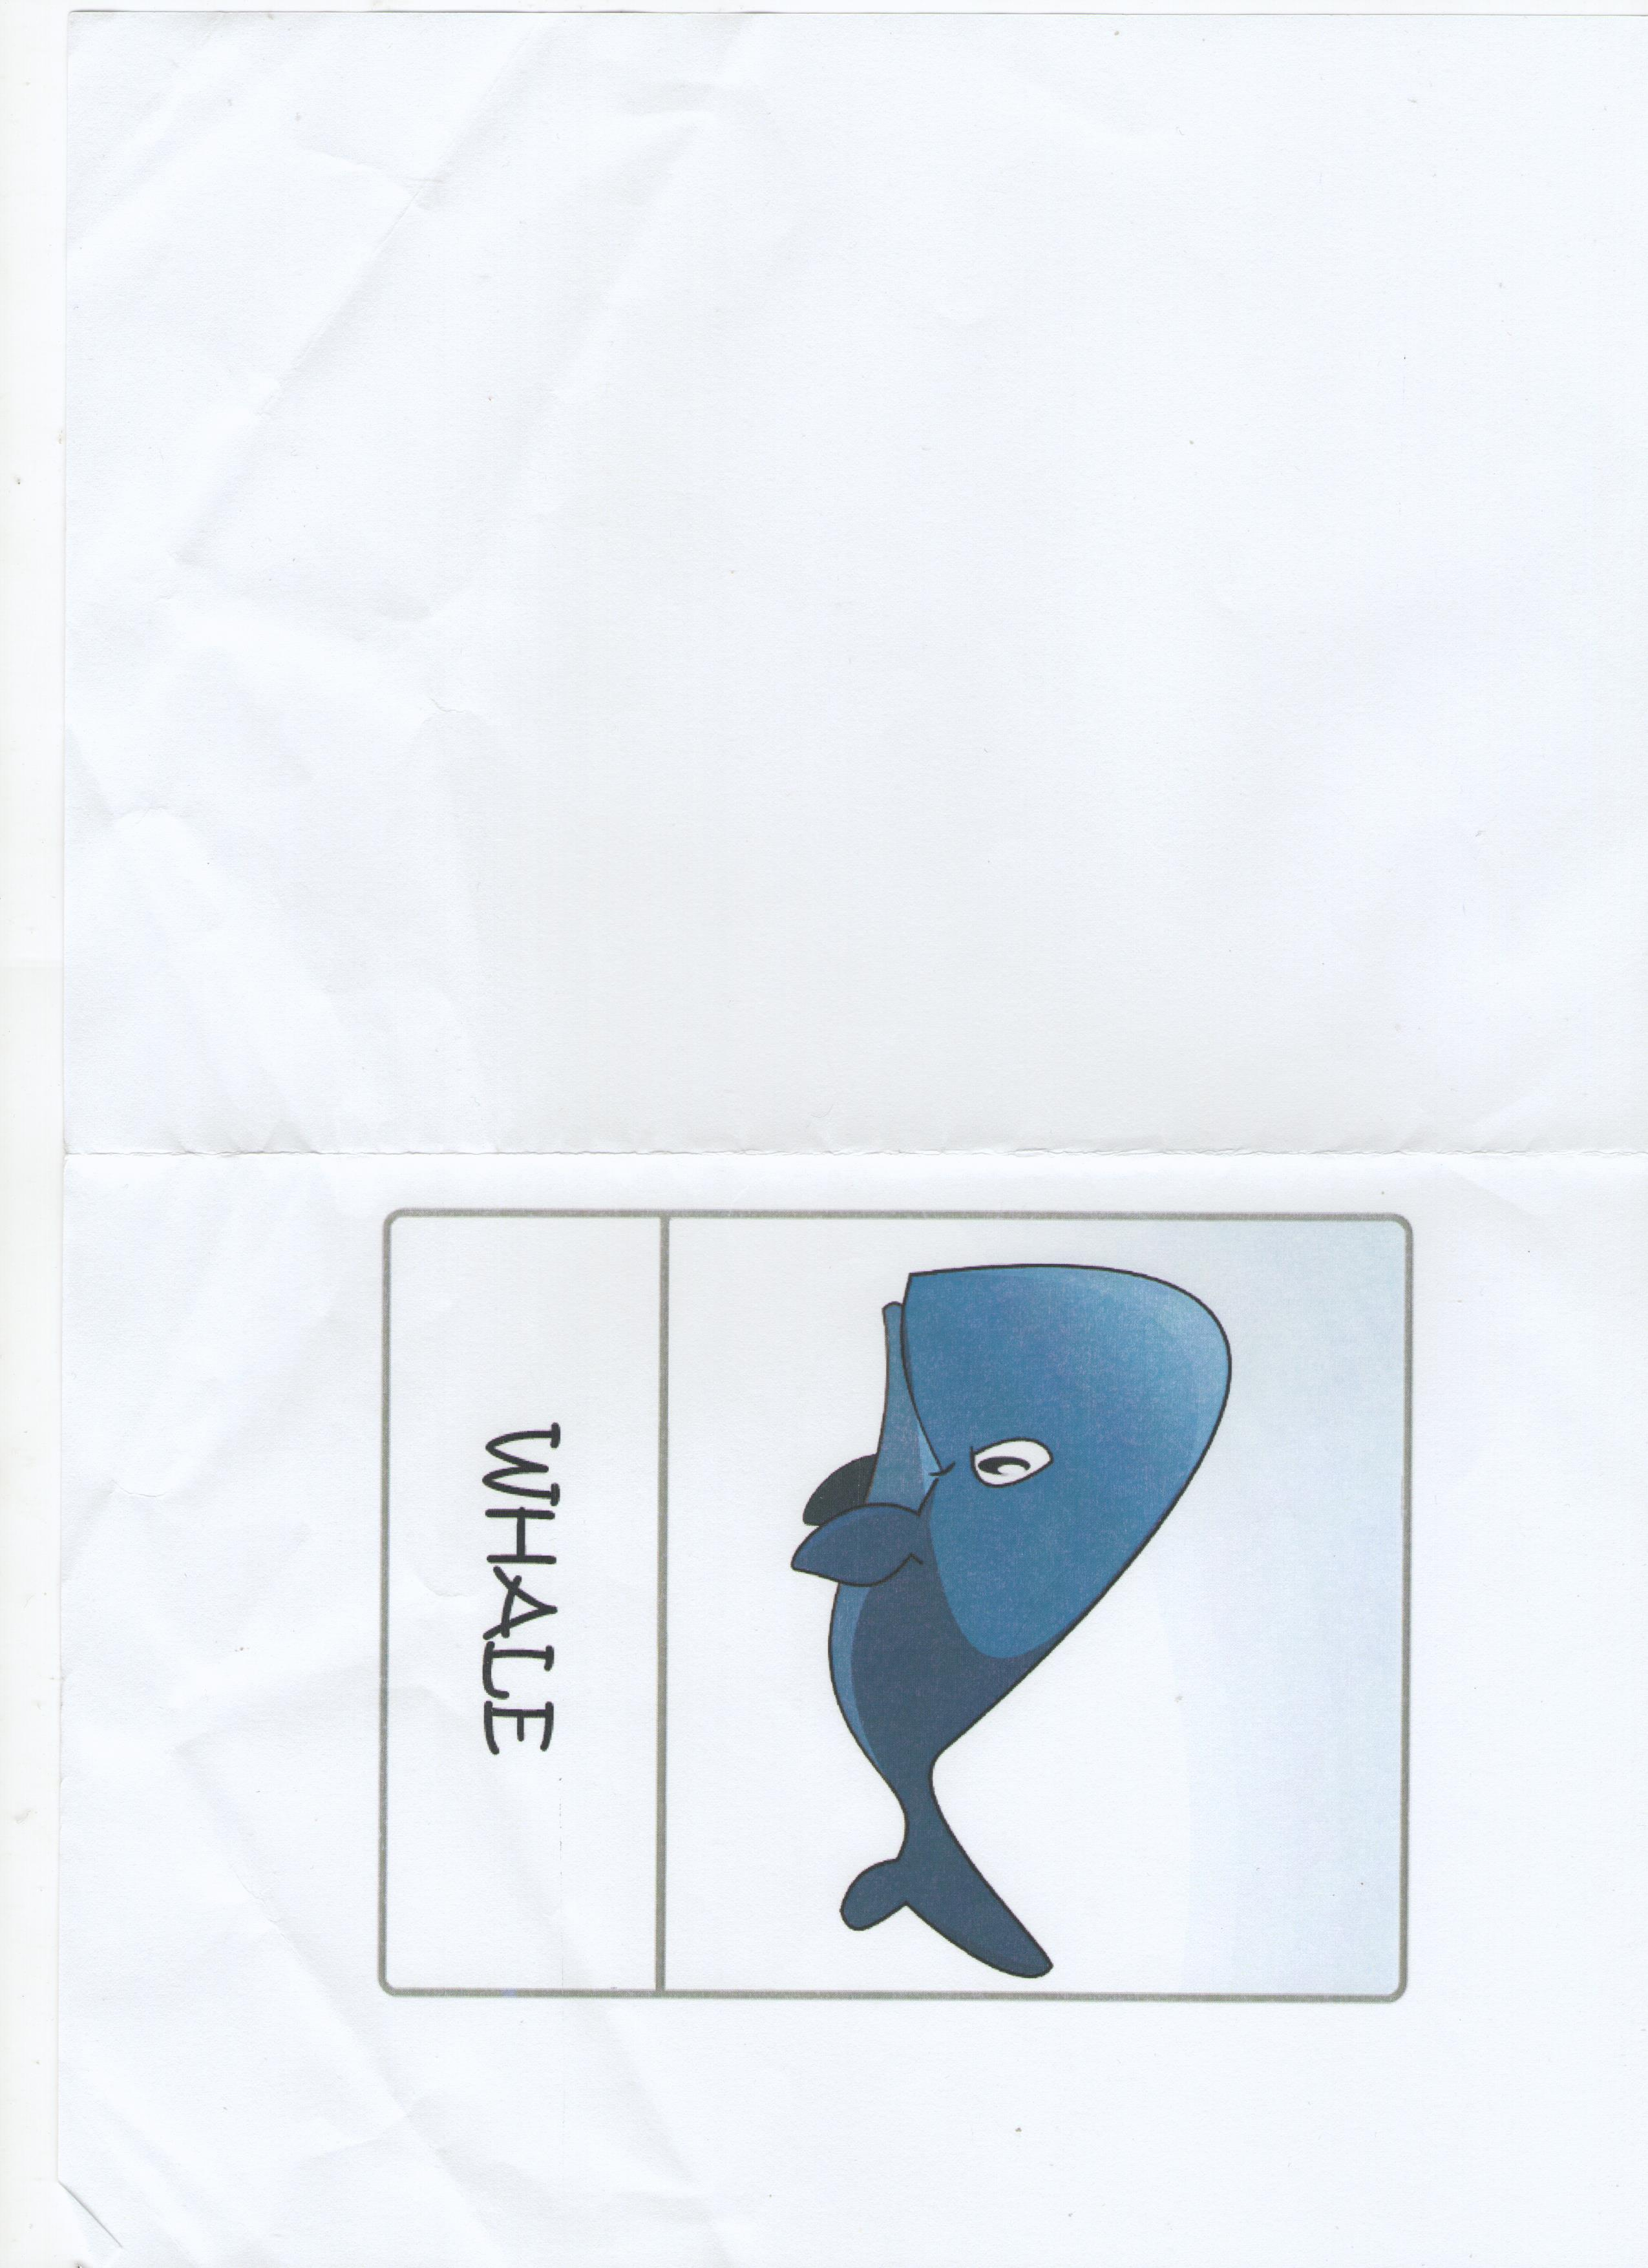balena: (381, 1218, 1437, 1974)
